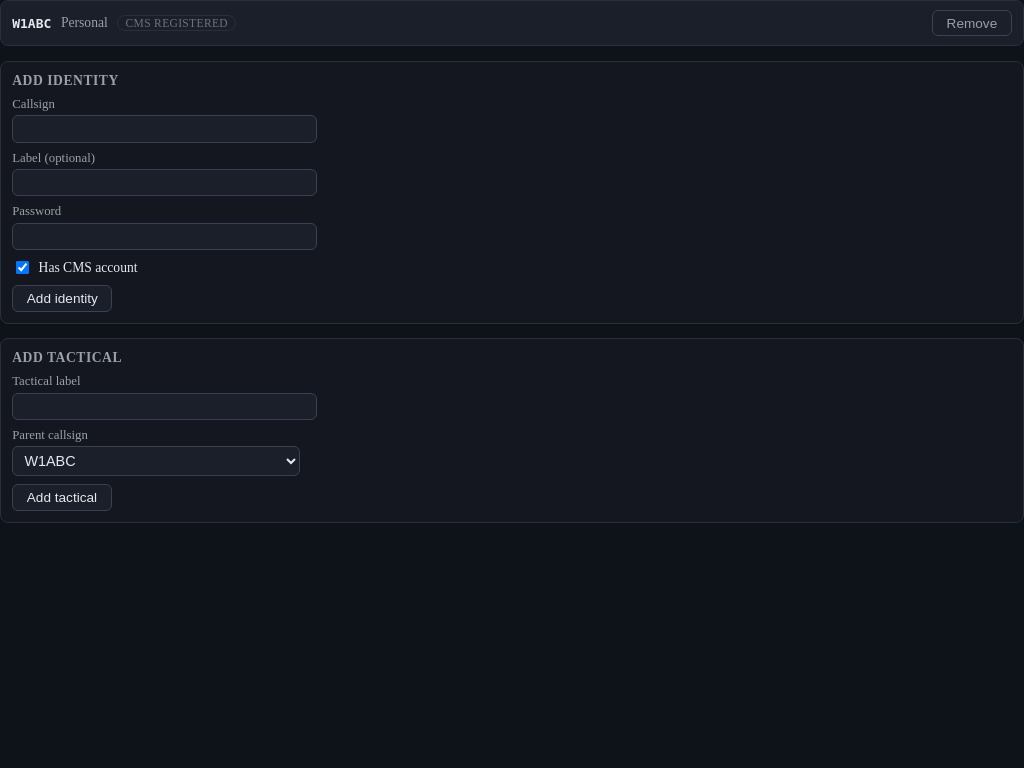
Scenario: IdentitiesSettings — remove › surfaces RemoveHasTacticals in the alert
Click the button with test id "identity-remove-W1ABC" at (972, 23), box [932,10,1012,36]
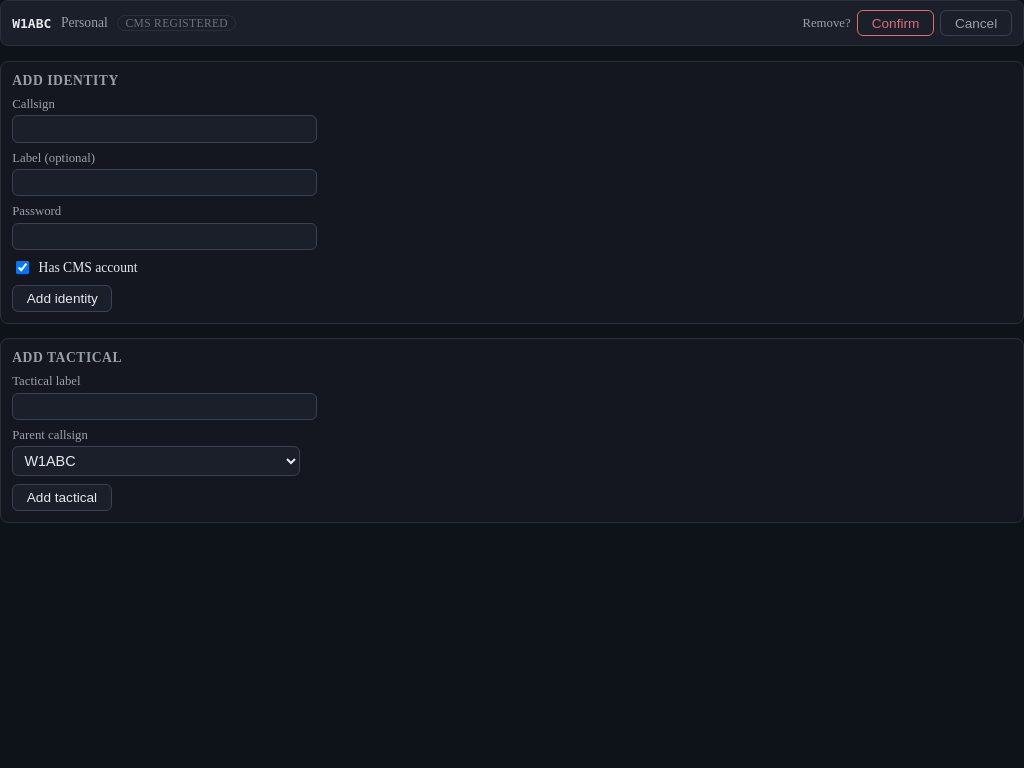
Click the button with test id "identity-remove-W1ABC-confirm" at (896, 23), box [857,10,934,36]
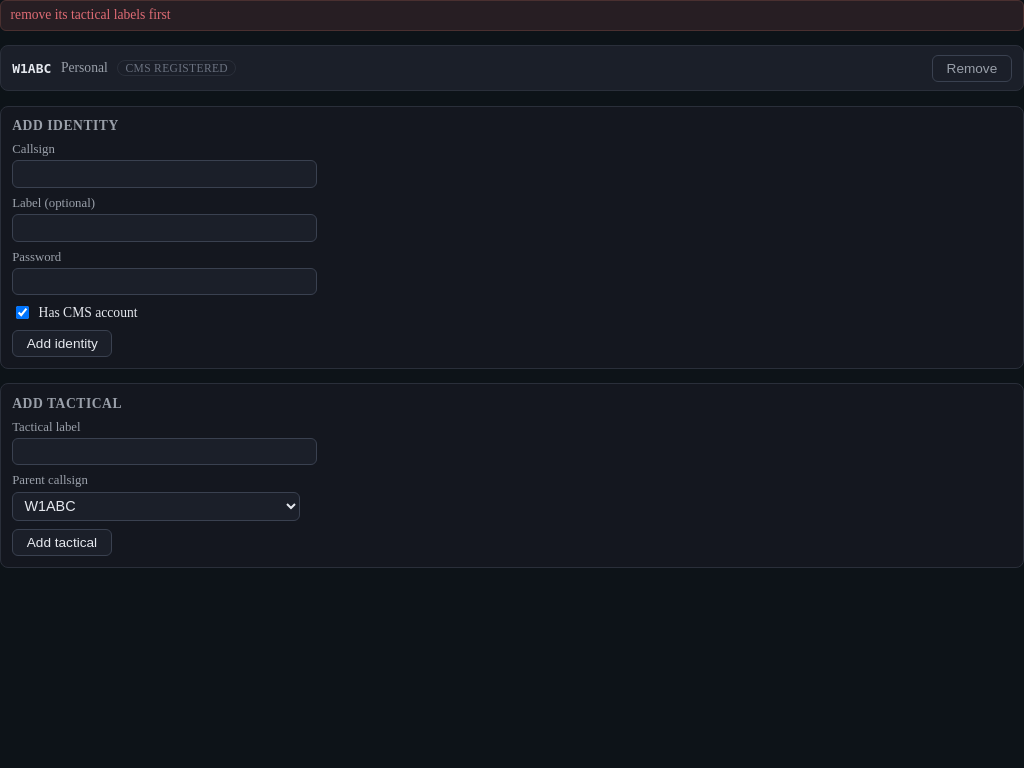
Check: the message with test id "identities-error" reads "remove its tactical labels first", box [11,7,171,22]
